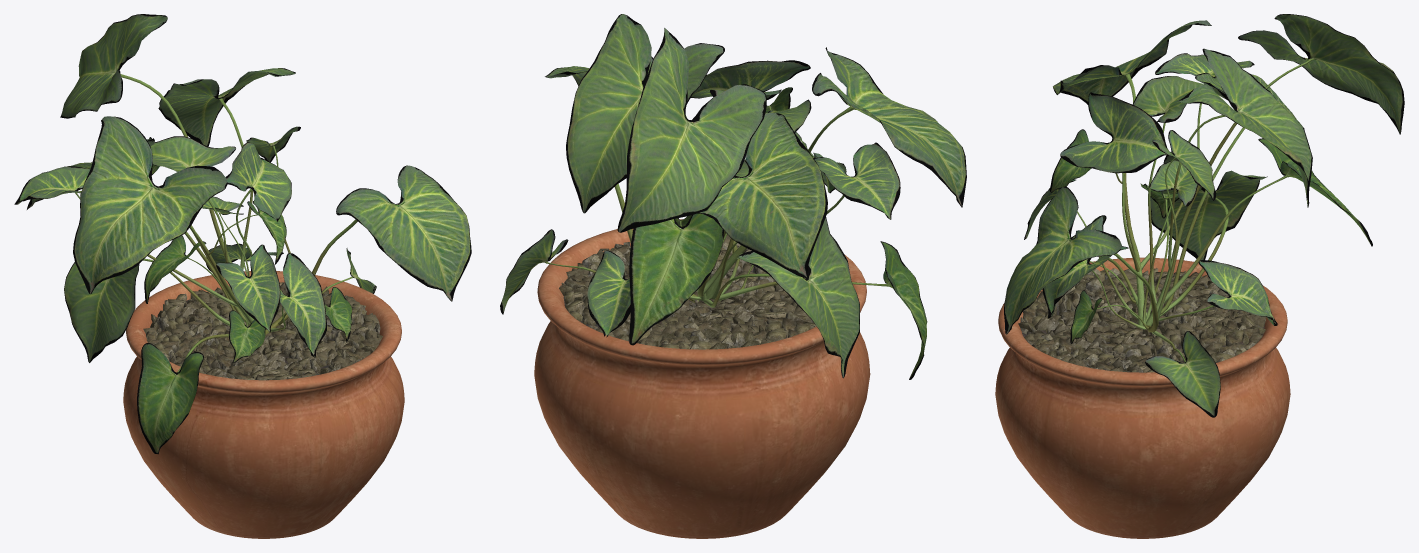
File: potted_plant_02.glb
The picture shows the model from 3 angles, left to right: view 1: azimuth 30°, elevation 25°; view 2: azimuth 150°, elevation 25°; view 3: azimuth 270°, elevation 25°; orthographic projection. The views are drawn at different scales.
Parts seen in each view (by area): view 1: potted_plant_02_leaves, potted_plant_02_pot, potted_plant_02_dirt; view 2: potted_plant_02_leaves, potted_plant_02_pot, potted_plant_02_dirt; view 3: potted_plant_02_leaves, potted_plant_02_pot, potted_plant_02_dirt.
Part boxes in pixels (box(x1,y1,x2,y2)): potted_plant_02_leaves: box(14, 14, 471, 454); potted_plant_02_pot: box(123, 271, 404, 538); potted_plant_02_dirt: box(143, 282, 382, 380); potted_plant_02_leaves: box(500, 14, 966, 379); potted_plant_02_pot: box(534, 219, 870, 538); potted_plant_02_dirt: box(559, 234, 816, 349); potted_plant_02_leaves: box(1004, 14, 1404, 417); potted_plant_02_pot: box(995, 257, 1290, 538); potted_plant_02_dirt: box(1018, 268, 1266, 372).
Bounding box in the file's own units: 0.7012 × 0.8412 × 0.6574.
Materials: 2 (2 with a texture image).
